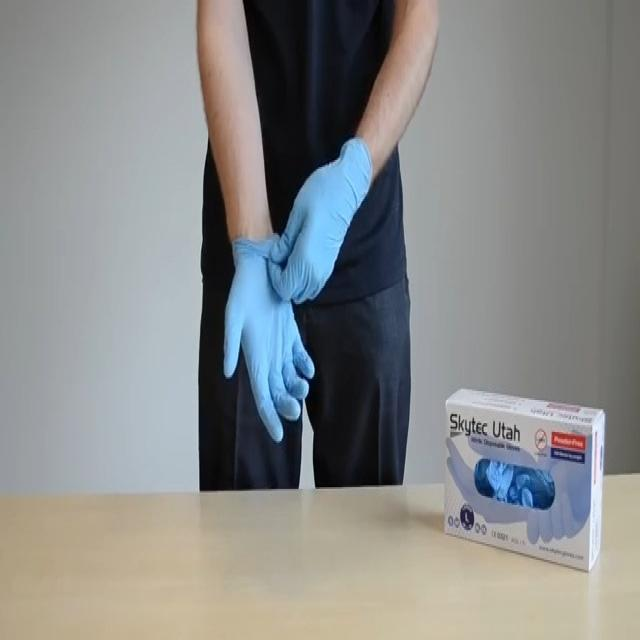Gloves: (216, 223, 317, 443), (266, 124, 379, 304)
